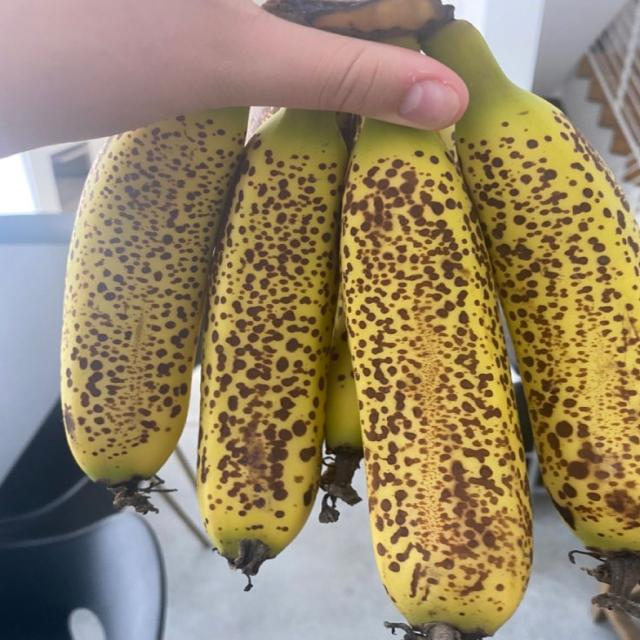unpeal banana: (425, 21, 639, 606), (341, 121, 531, 639), (61, 109, 247, 510), (198, 109, 346, 577), (320, 297, 362, 522)
